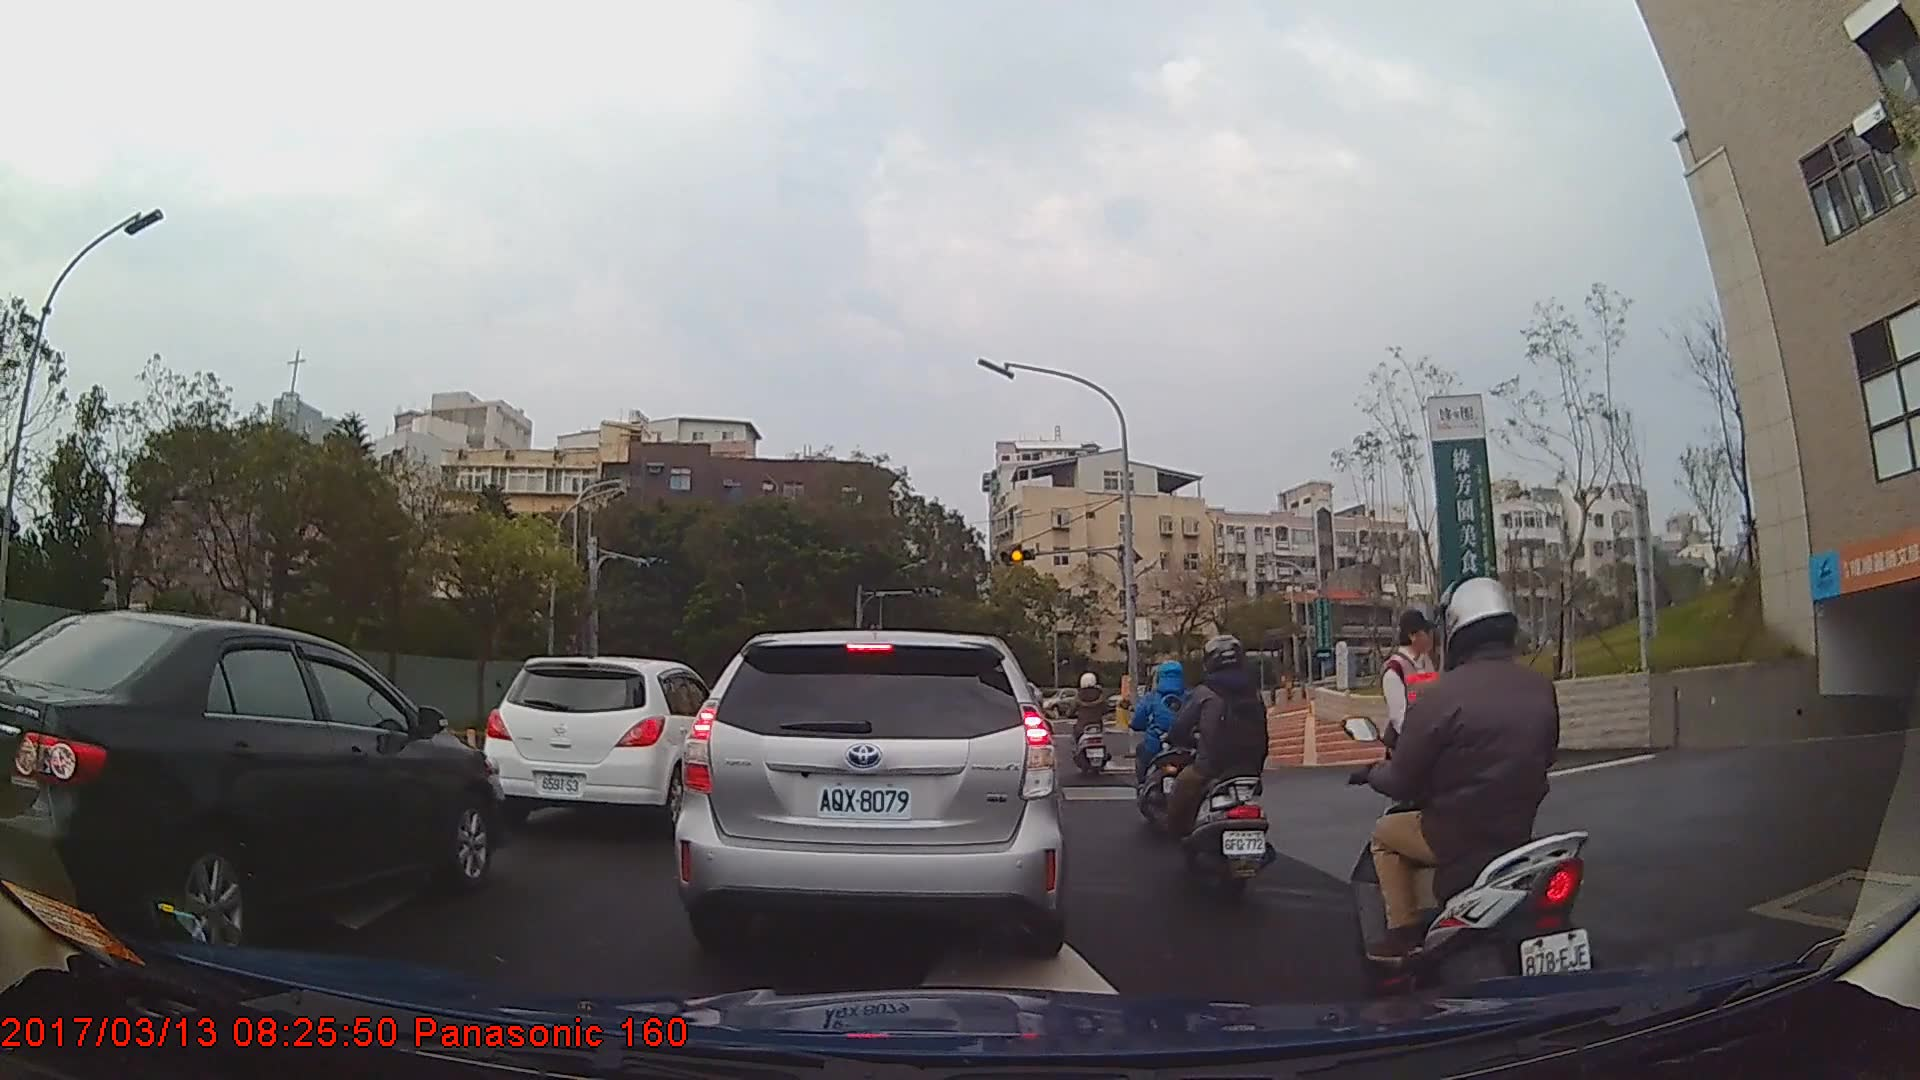pedestrian: (1375, 608, 1493, 873)
rider: (1343, 572, 1599, 1024), (1165, 632, 1275, 894), (1123, 659, 1190, 829), (1067, 670, 1112, 779)
vehicle: (0, 607, 503, 961), (672, 628, 1065, 954), (481, 655, 721, 822)
